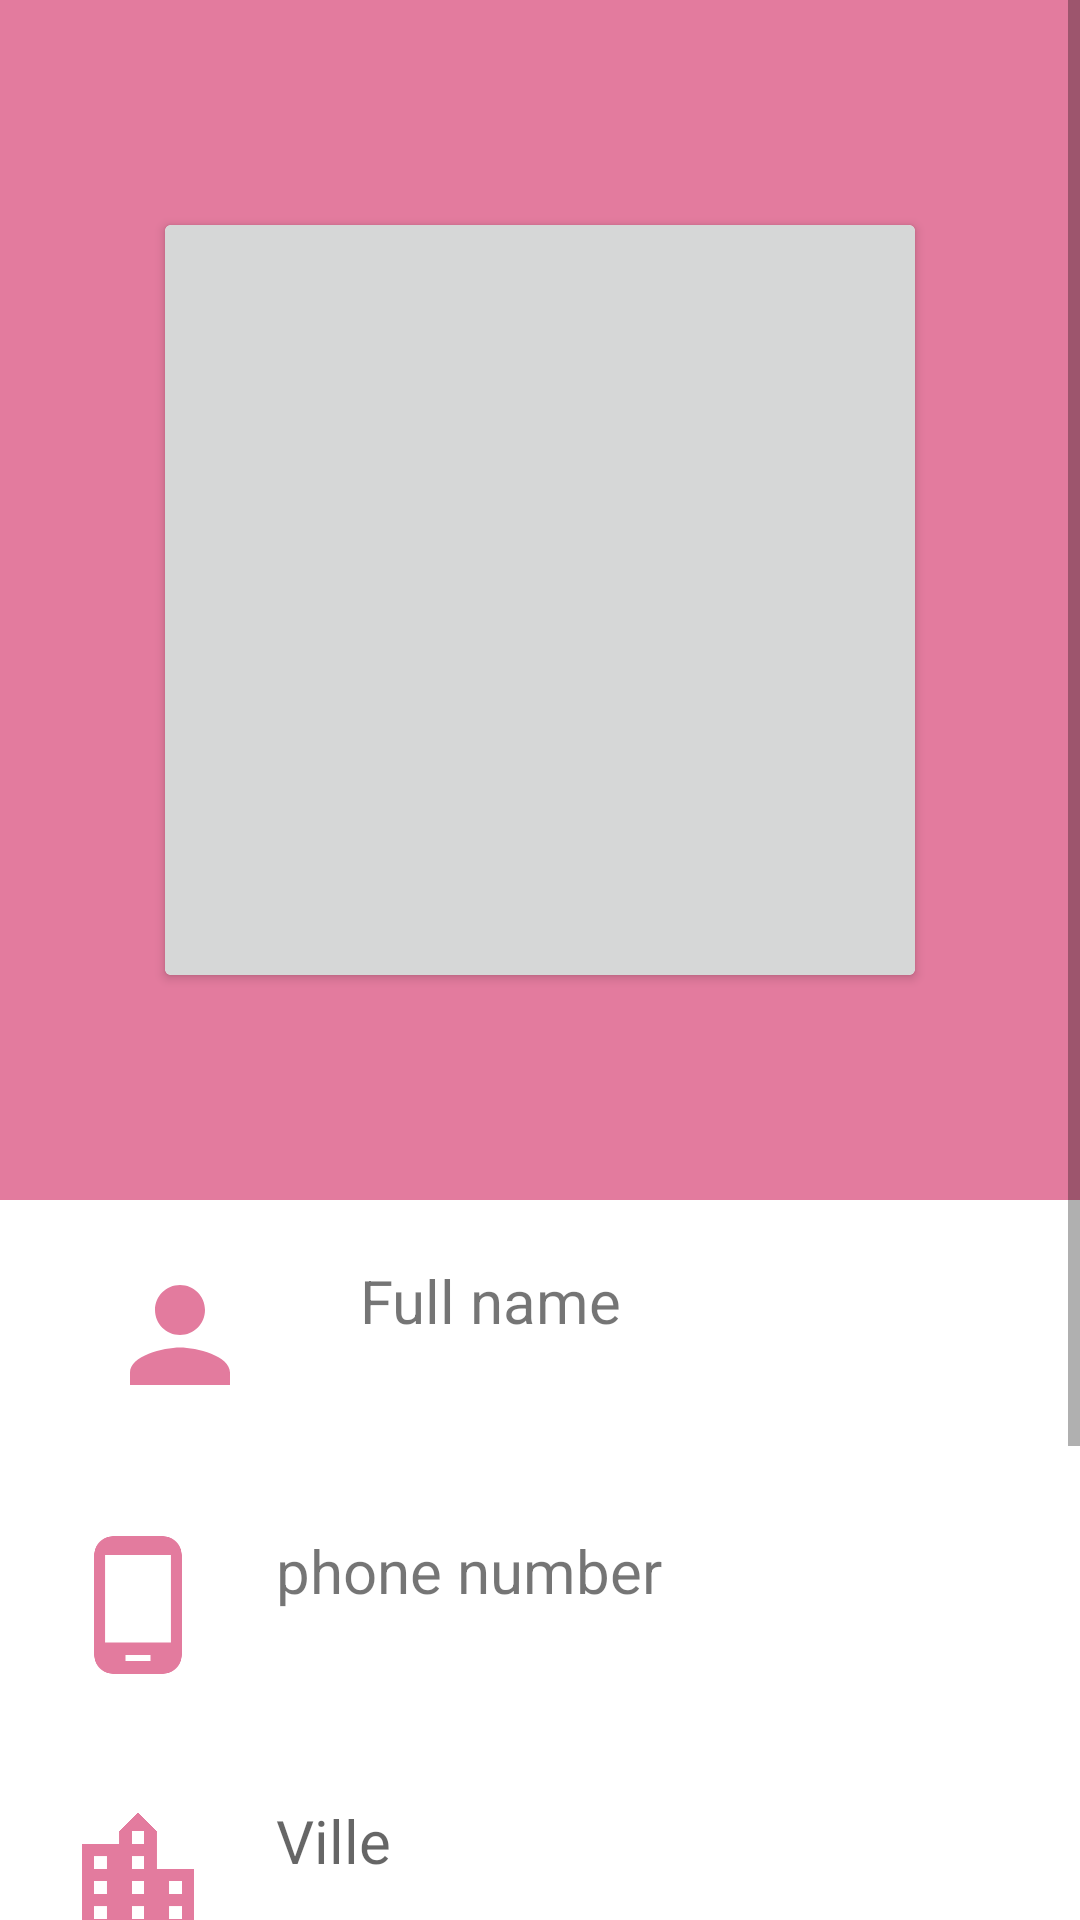

Named icons in this screenshot (1080 × 1920) and their centers, point (x, y):
person: point (180, 1335)
phone android: point (138, 1605)
